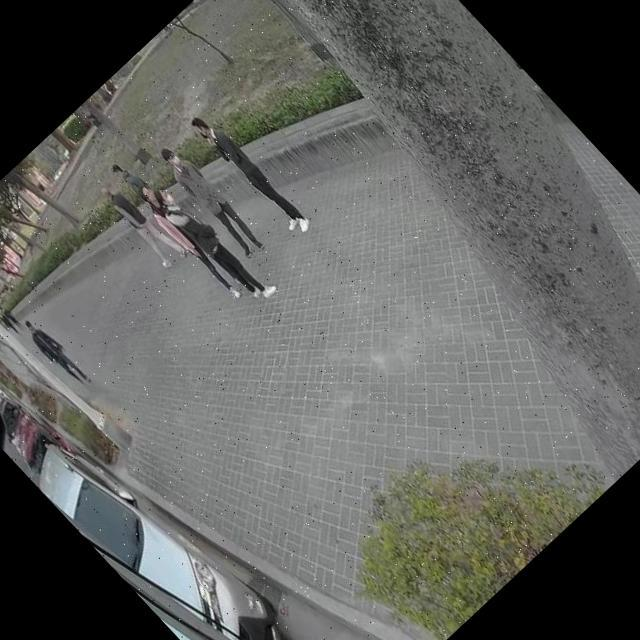person: (144, 169, 281, 312), (130, 164, 264, 305), (188, 106, 312, 237), (154, 140, 272, 264), (96, 175, 190, 274), (20, 315, 96, 394), (110, 154, 154, 198)
